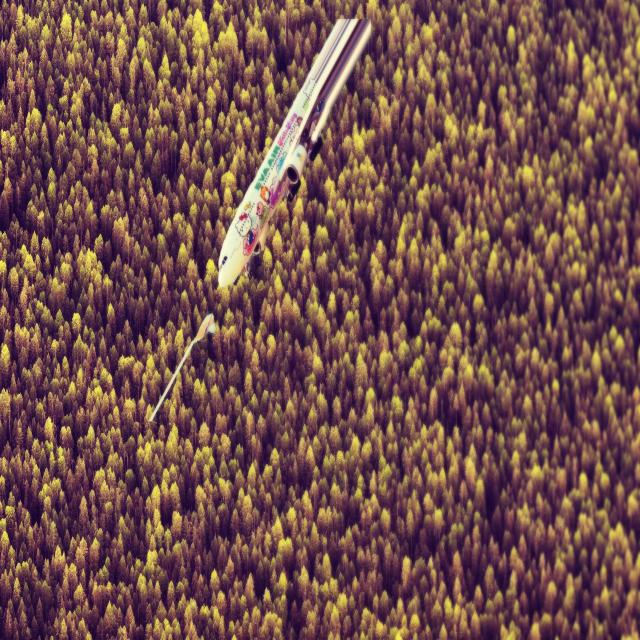airplane: (216, 16, 372, 290)
